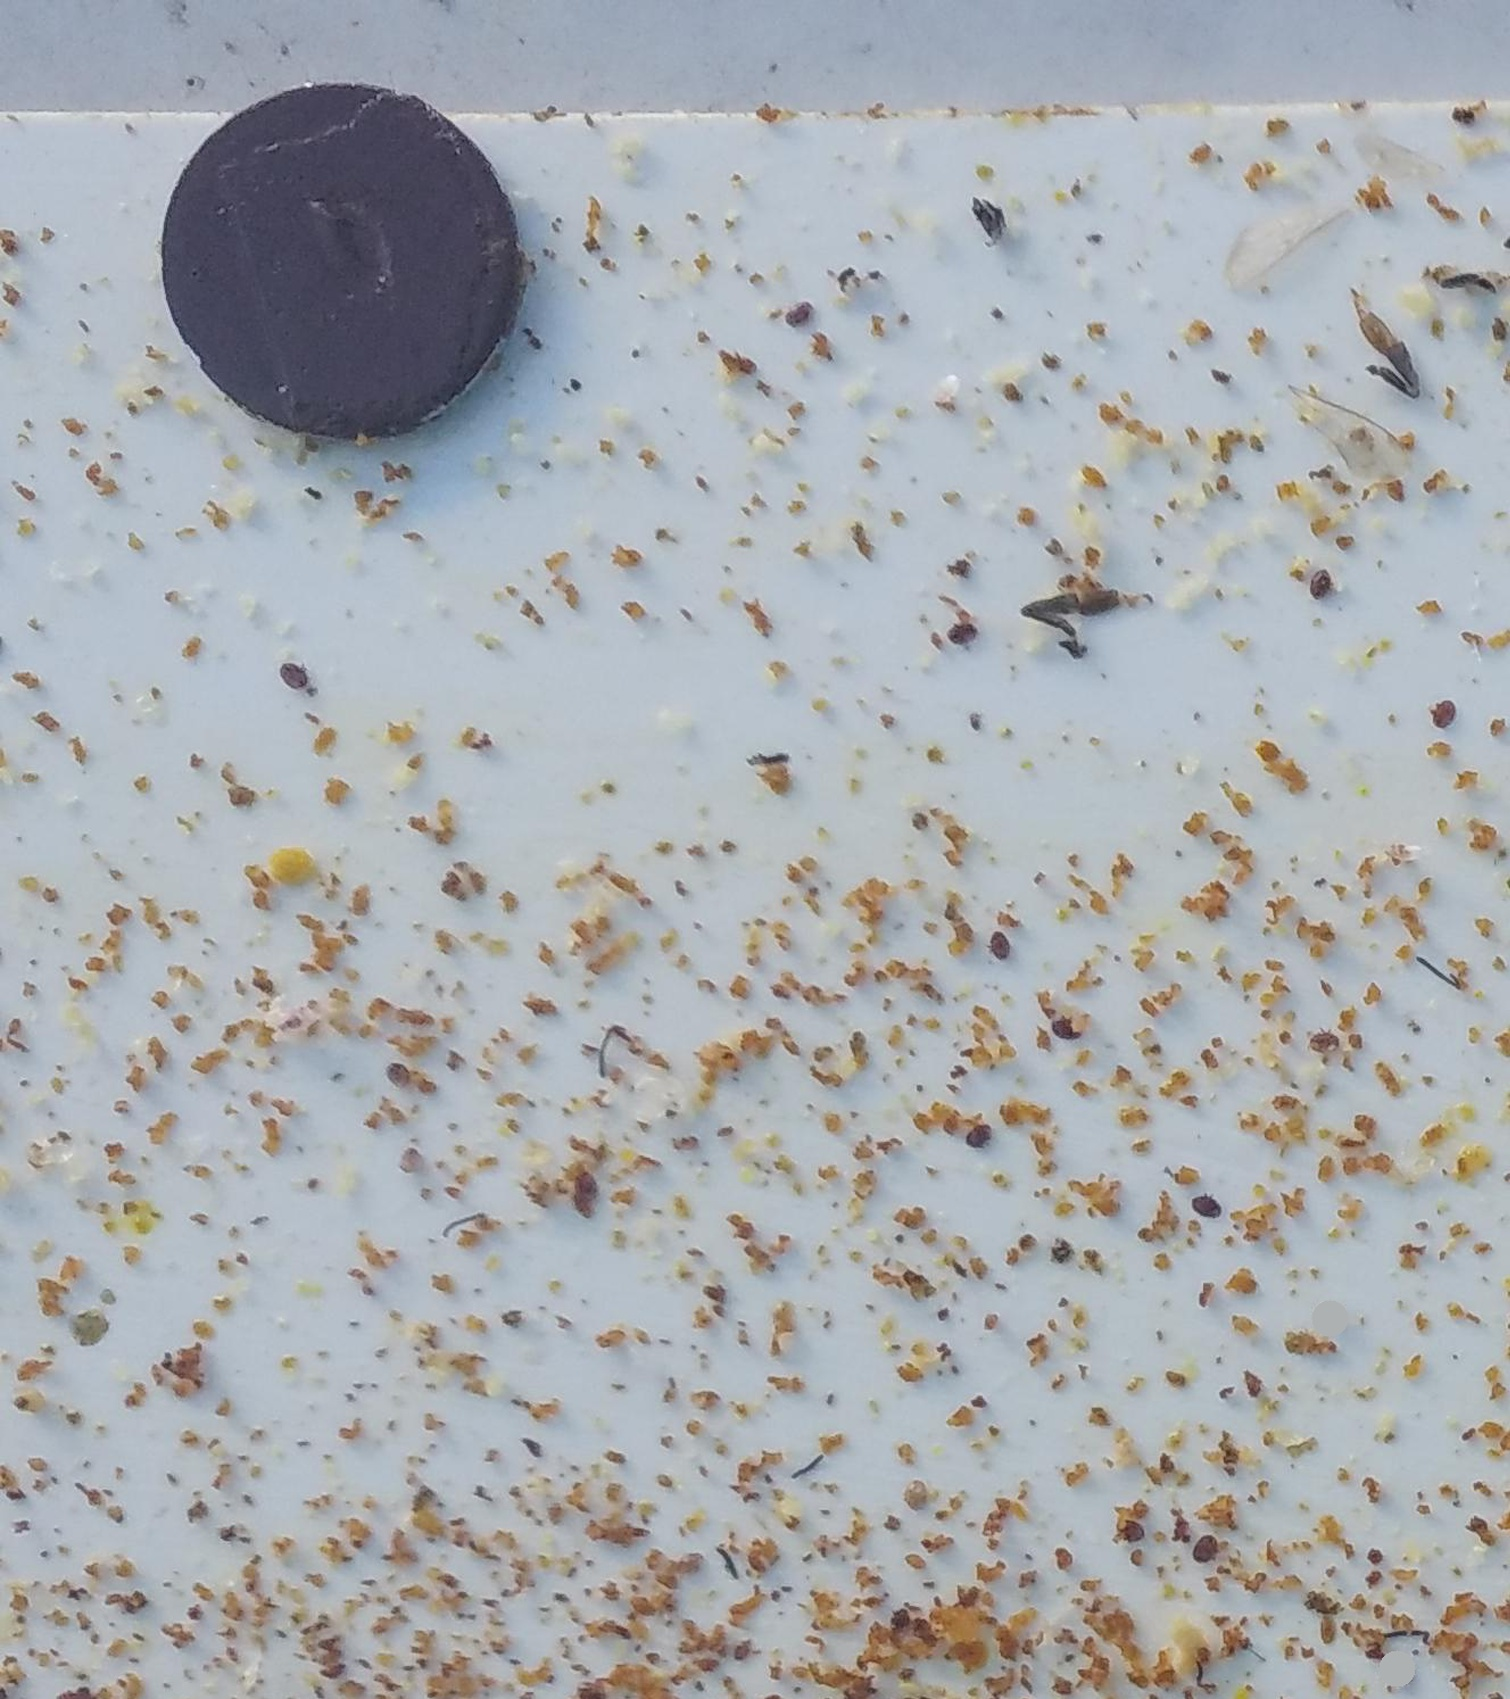Varroa: (984, 938, 1028, 979), (566, 1166, 606, 1206), (1108, 1511, 1149, 1552), (896, 1475, 937, 1515), (1302, 568, 1337, 608), (955, 619, 990, 657), (277, 663, 310, 702), (1424, 697, 1459, 733), (1189, 1188, 1224, 1223), (1189, 1531, 1224, 1566), (972, 921, 1006, 954), (1307, 1032, 1341, 1065), (786, 302, 818, 337), (961, 1126, 995, 1158), (1047, 1008, 1077, 1040), (383, 1062, 414, 1091)
